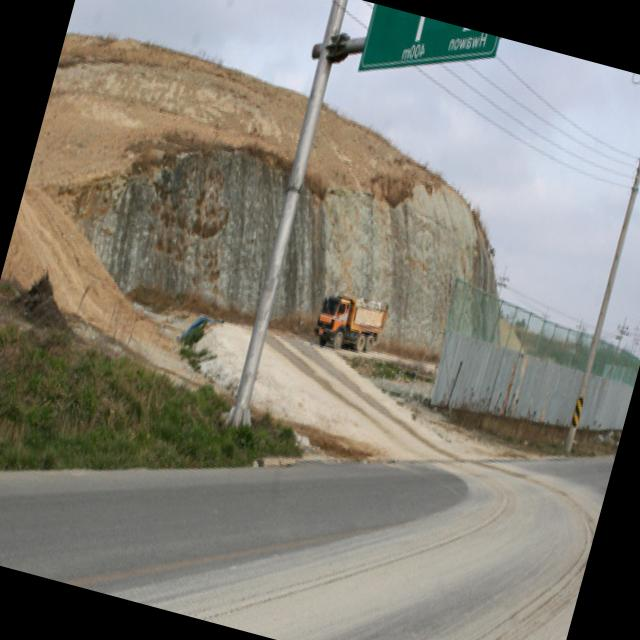asphalt: (0, 458, 614, 640)
red-sand: (27, 32, 307, 186), (1, 183, 187, 372), (307, 106, 440, 194)
white-sand: (251, 330, 505, 460), (199, 323, 251, 391)
